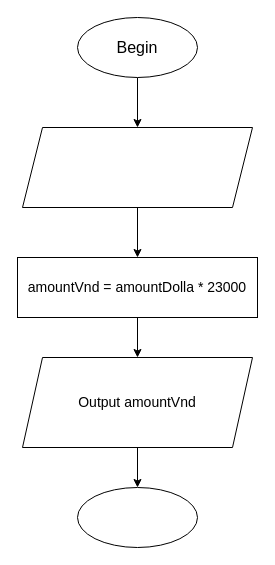
Image size: 275x565. Some labels were removed from this diagram. The shapes that lost their labels are listed below. From the top down, each one's centre as x and y in pixels, then its label:
At point (137, 167): "Input amountDolla".
At point (137, 517): "End.".
